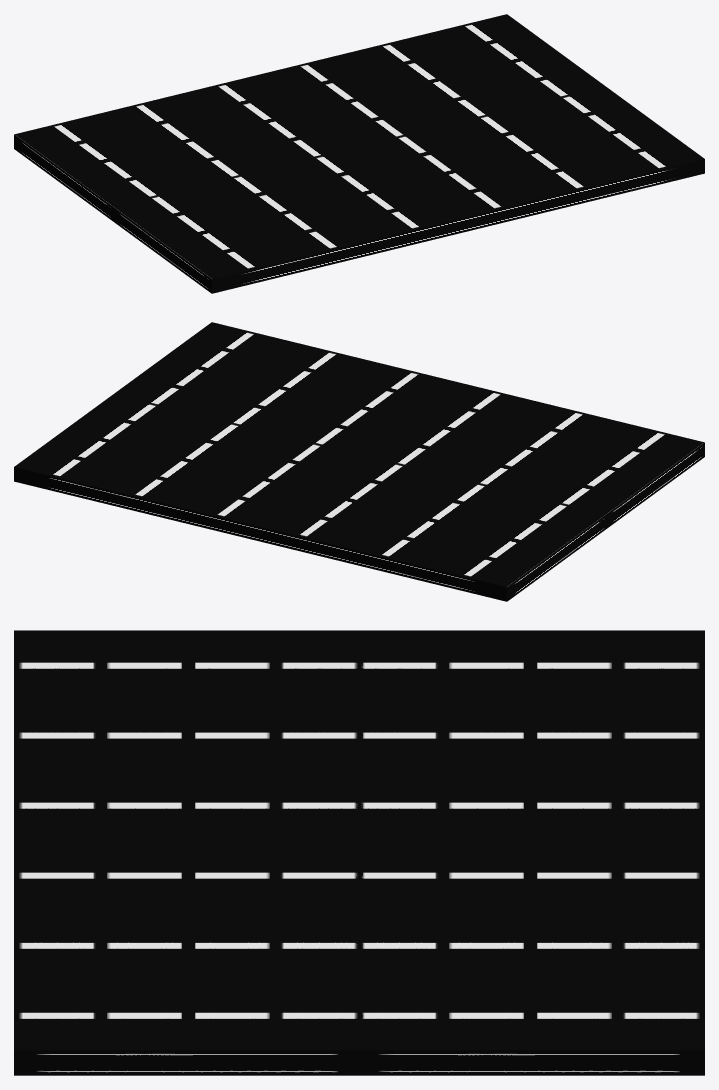
Rendered from recta.fbx.
The picture shows the model from 3 angles, top to bottom: view 1: azimuth 30°, elevation 25°; view 2: azimuth 150°, elevation 25°; view 3: azimuth 270°, elevation 25°; orthographic projection. The views are drawn at different scales.
Parts seen in each view (by area): view 1: Road01; view 2: Road01; view 3: Road01.
Boxes of the visible parts, bbox=[...] form: Road01: bbox=[14, 14, 704, 293]; Road01: bbox=[14, 322, 704, 601]; Road01: bbox=[14, 630, 704, 1075].
Bounding box in the file's own units: 709 × 20 × 493.
